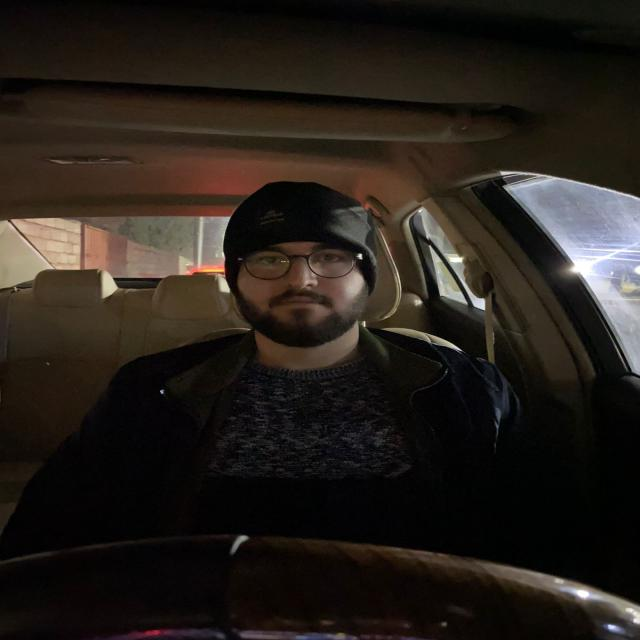person: (214, 179, 389, 353)
